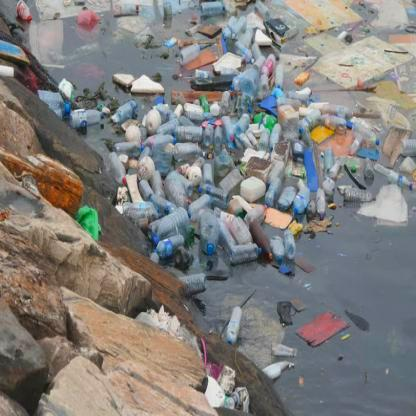Plastic: (151, 207, 191, 245), (196, 209, 222, 253), (344, 116, 384, 143), (301, 148, 322, 188), (224, 305, 242, 346), (172, 122, 206, 142), (201, 158, 220, 190), (229, 244, 263, 261), (117, 97, 140, 121), (259, 54, 279, 81), (235, 110, 252, 135)
